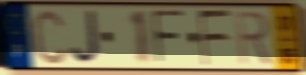1: (129, 9, 152, 67)
C: (30, 8, 70, 67)
F: (149, 8, 186, 67), (196, 8, 232, 68)
J: (68, 8, 104, 66)
R: (234, 9, 274, 67)
